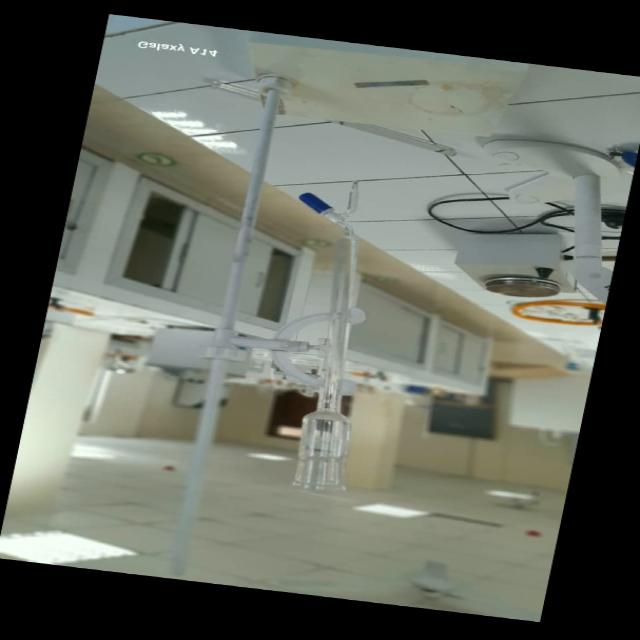Column Chromatography: (234, 167, 414, 501)
